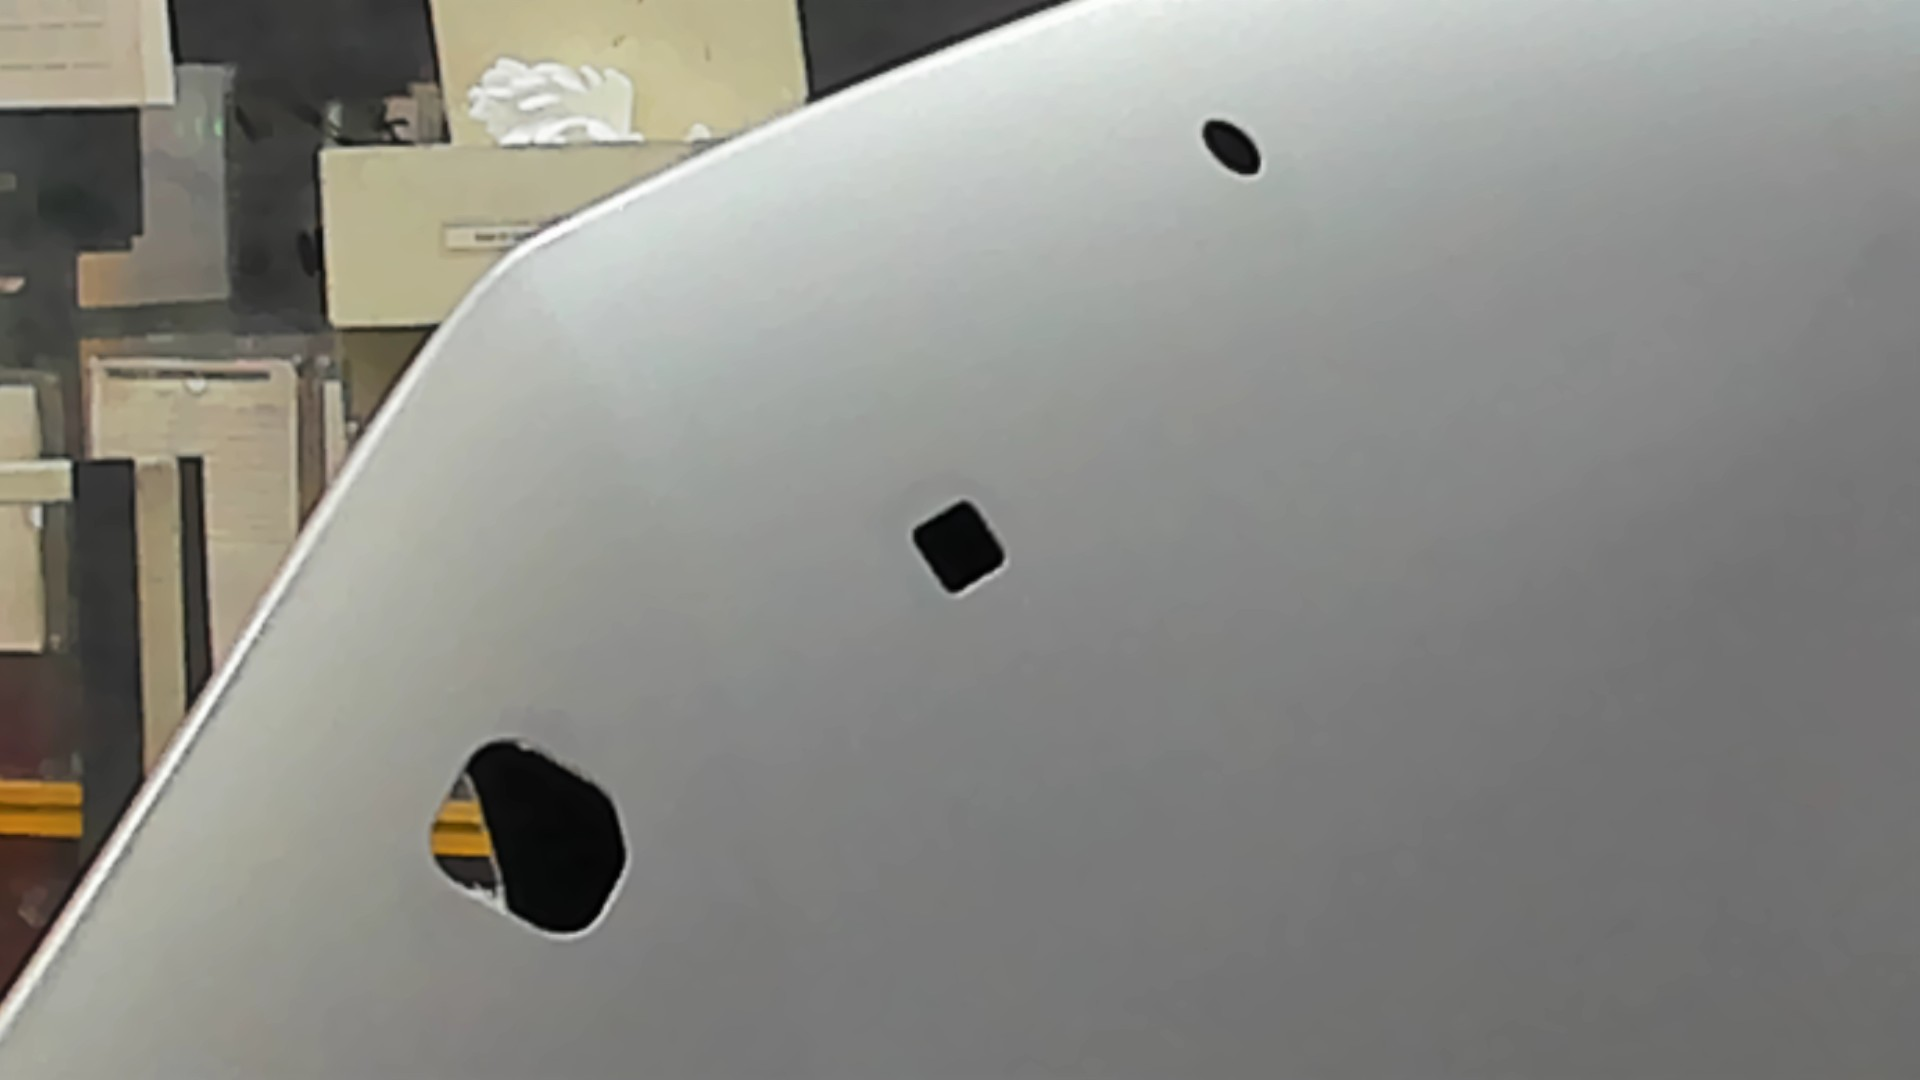Agujero: (909, 497, 1007, 597), (1203, 117, 1263, 175)
Agujerote: (425, 736, 632, 942)
